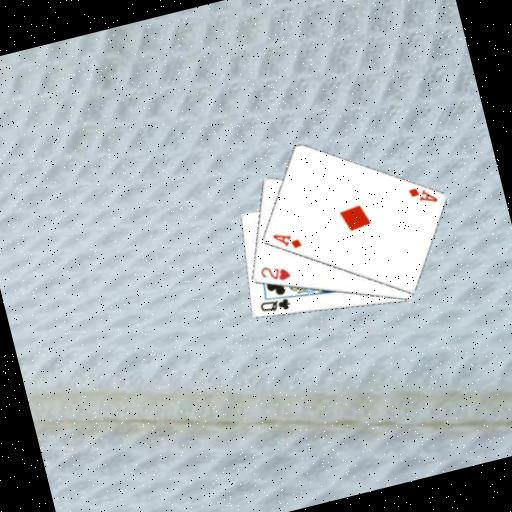2H: (256, 258, 294, 287)
AD: (404, 180, 440, 210), (269, 226, 304, 256)
QC: (256, 293, 293, 318)
